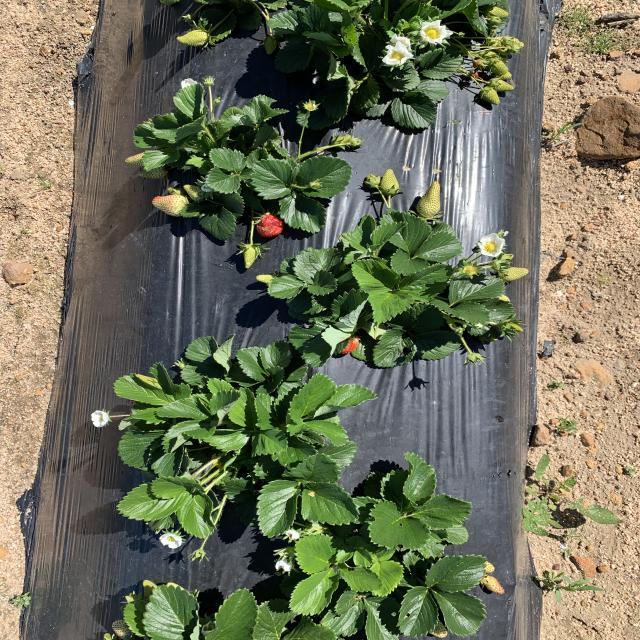unripe: (256, 203, 288, 240), (332, 332, 359, 356)
